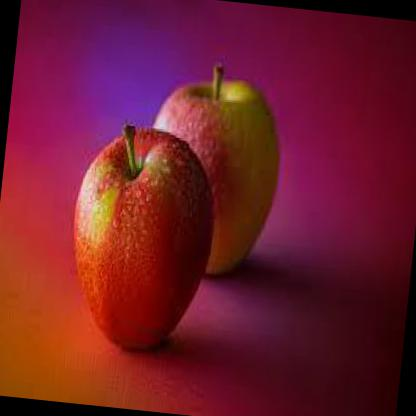apple: (59, 114, 224, 360), (137, 59, 290, 283)
